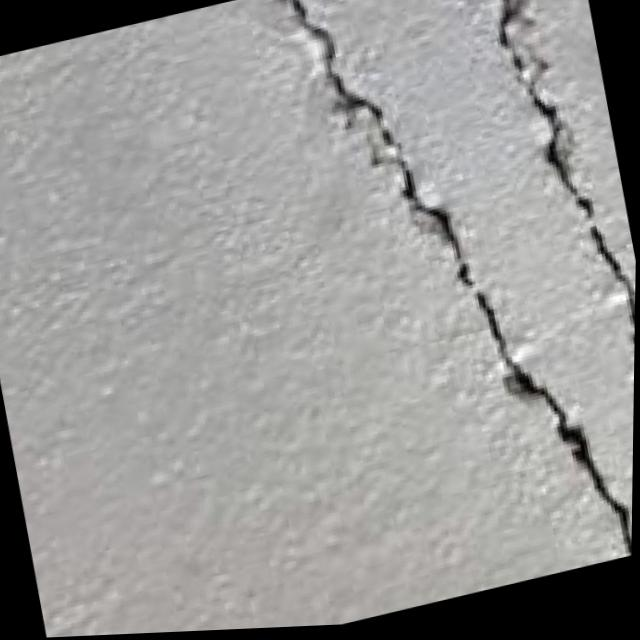Crack: (246, 0, 640, 626)
